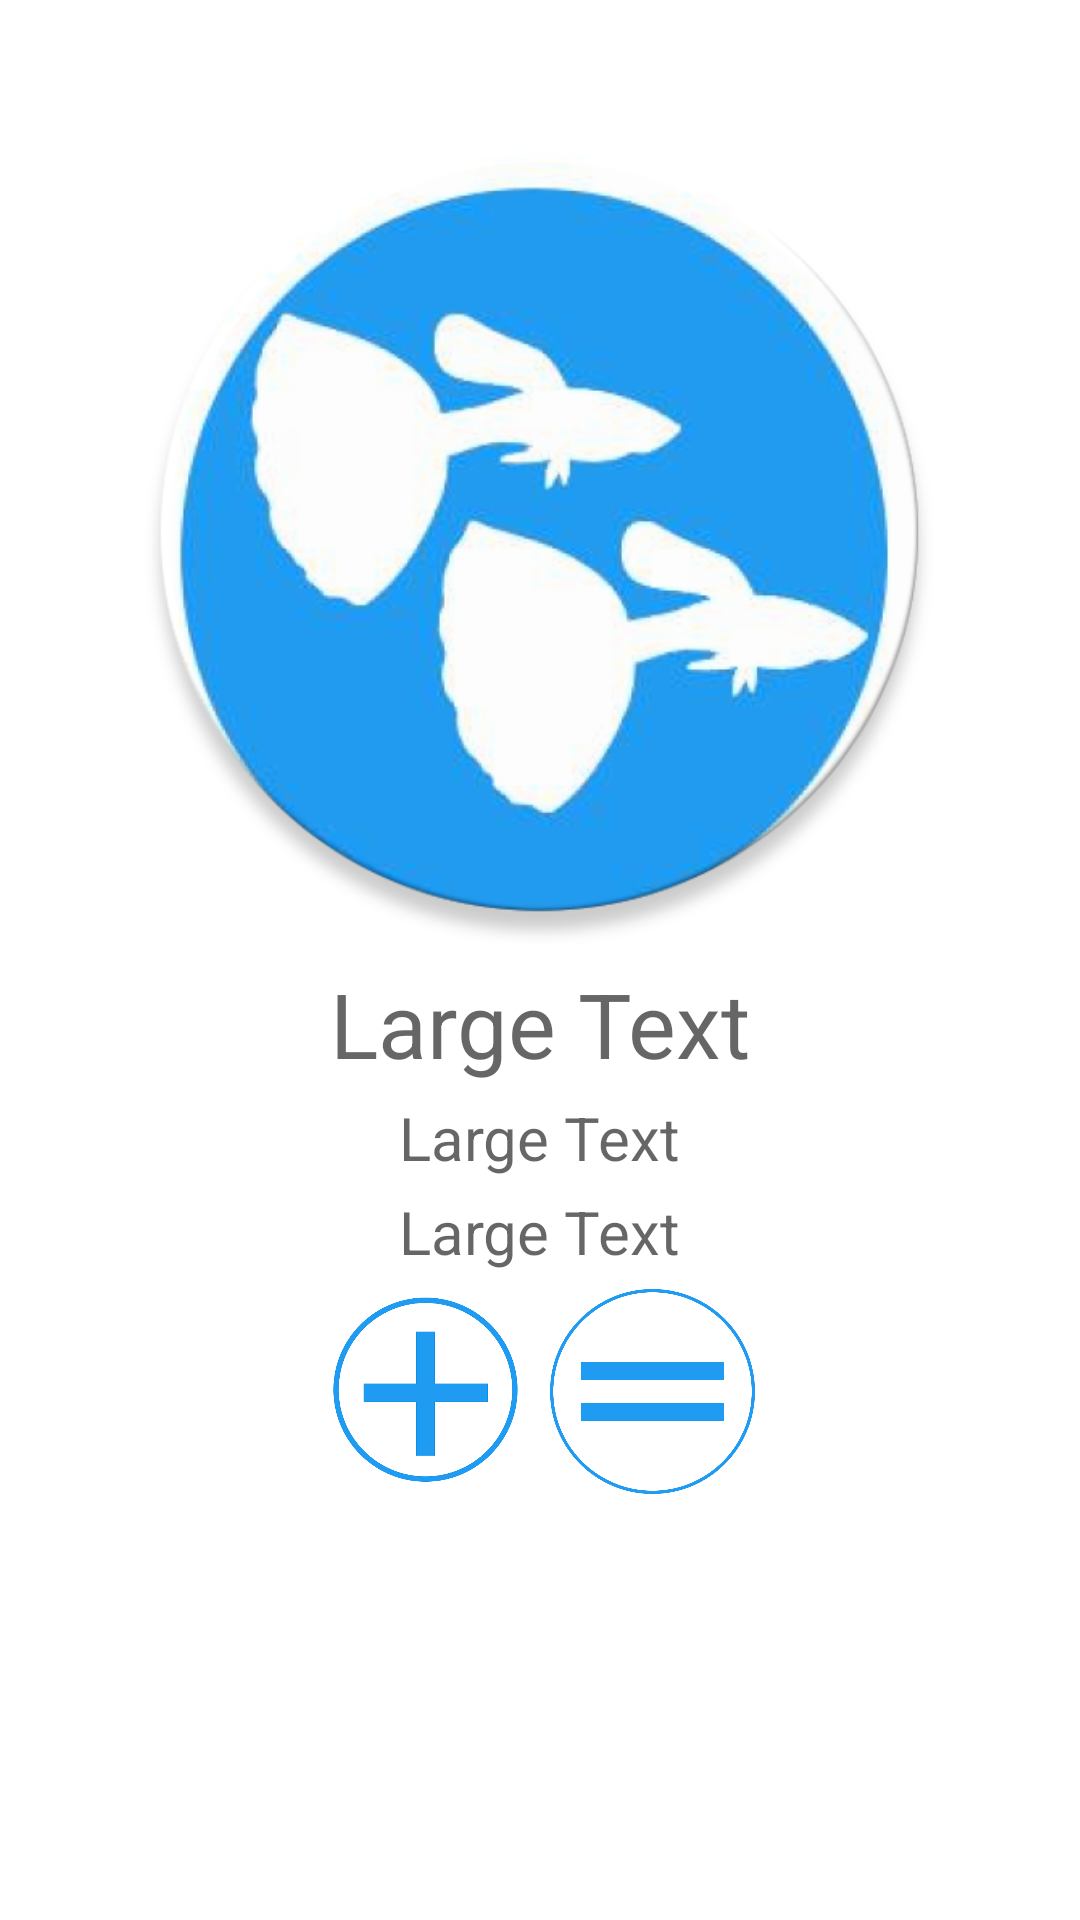

Where icons sit on this 1080*1920 app screen, as Rect(x1, y1, x2, y2):
plus: Rect(333, 1297, 518, 1482)
